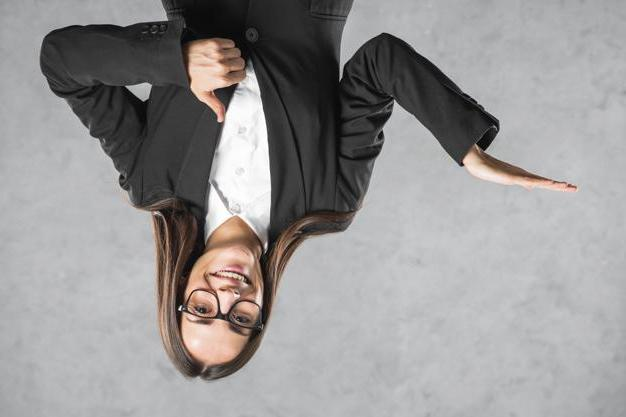thumbsdown: (201, 38, 246, 123)
